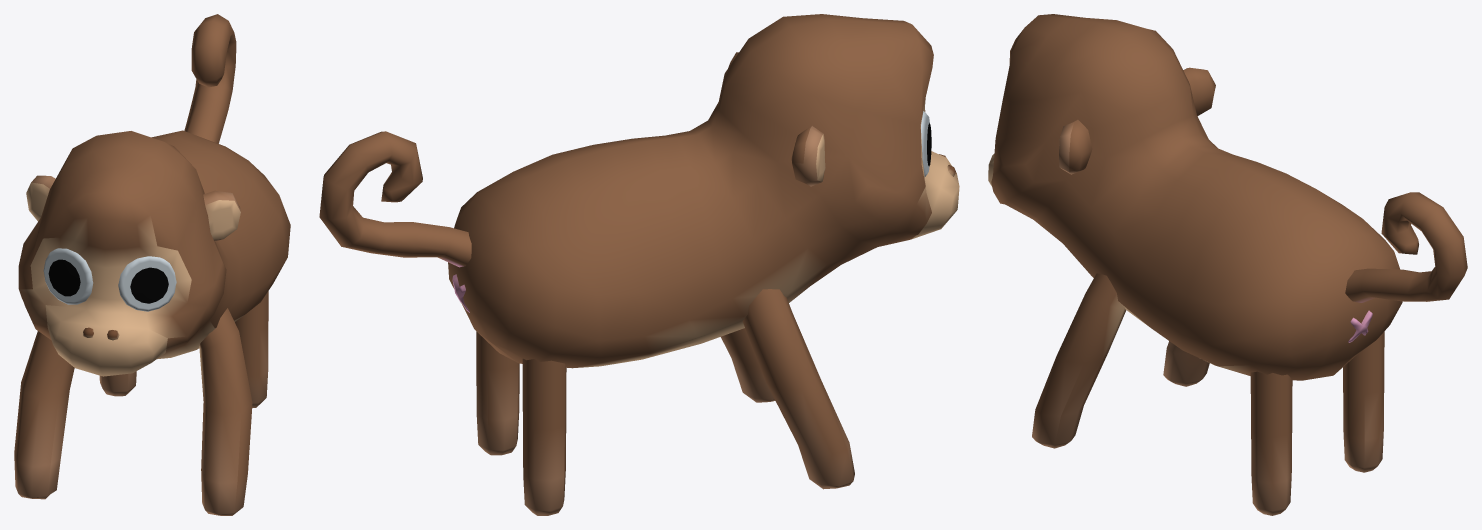
Rendered from Monkey.glb.
The picture shows the model from 3 angles, left to right: view 1: azimuth 30°, elevation 25°; view 2: azimuth 150°, elevation 25°; view 3: azimuth 270°, elevation 25°; orthographic projection. The views are drawn at different scales.
Parts seen in each view (by area): view 1: 103; view 2: 103; view 3: 103.
Boxes of the visible parts, box(x1,y1,x2,y2) form: 103: box(14, 14, 290, 515); 103: box(319, 14, 959, 515); 103: box(988, 14, 1467, 515).
Bounding box in the file's own units: 0.8546 × 0.8175 × 0.9294.
